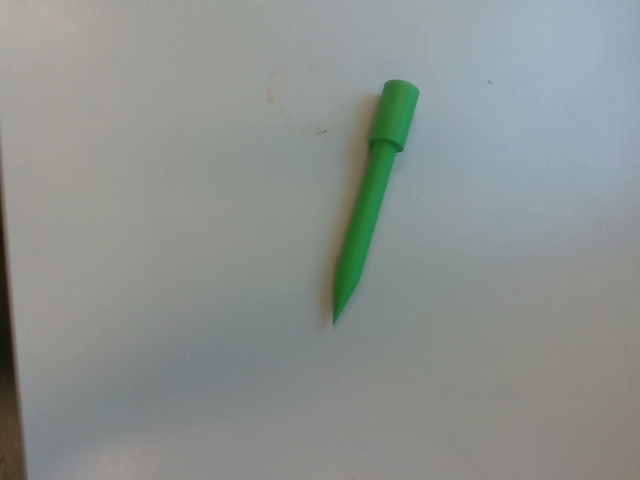Probe: (326, 72, 426, 328)
